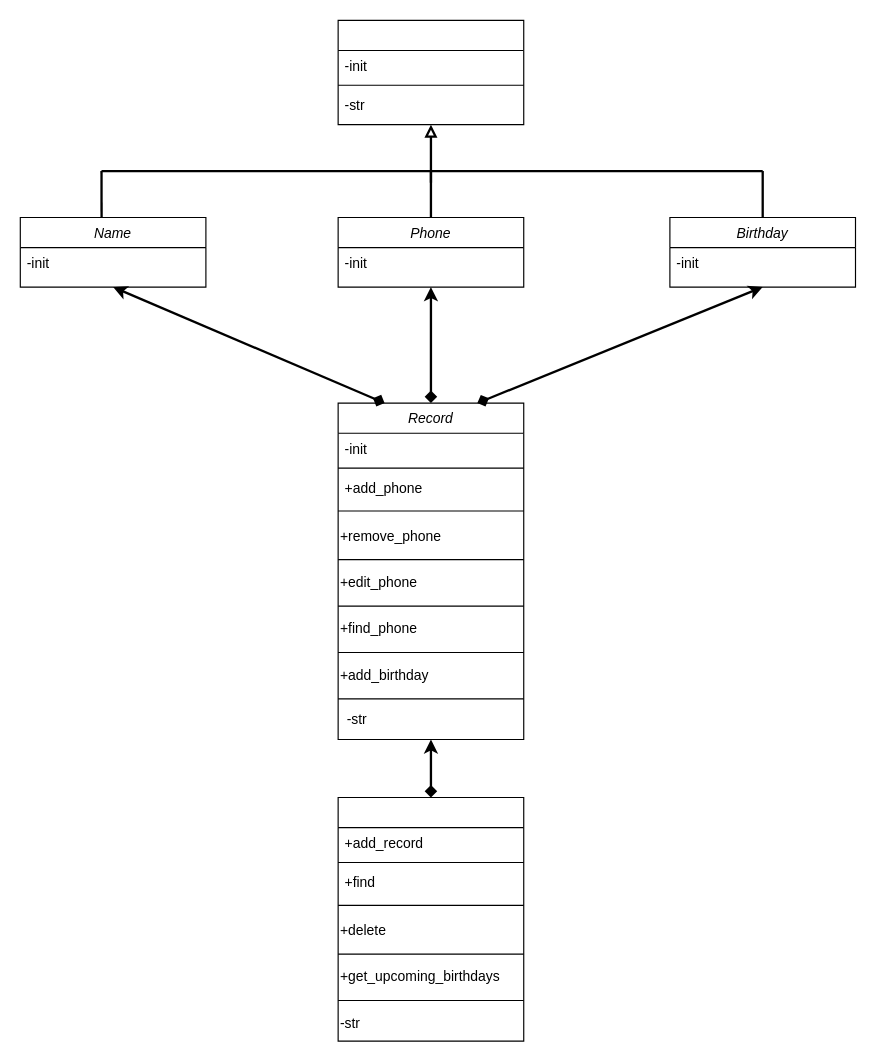
Image size: 876x1061. Some labels were removed from this diagram. Each missing label, with the box of its shape:
AddressBook: (337, 796, 524, 1041)
Field: (337, 19, 524, 125)
